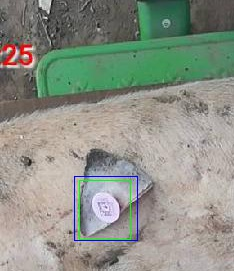text: (79, 180, 130, 239)
